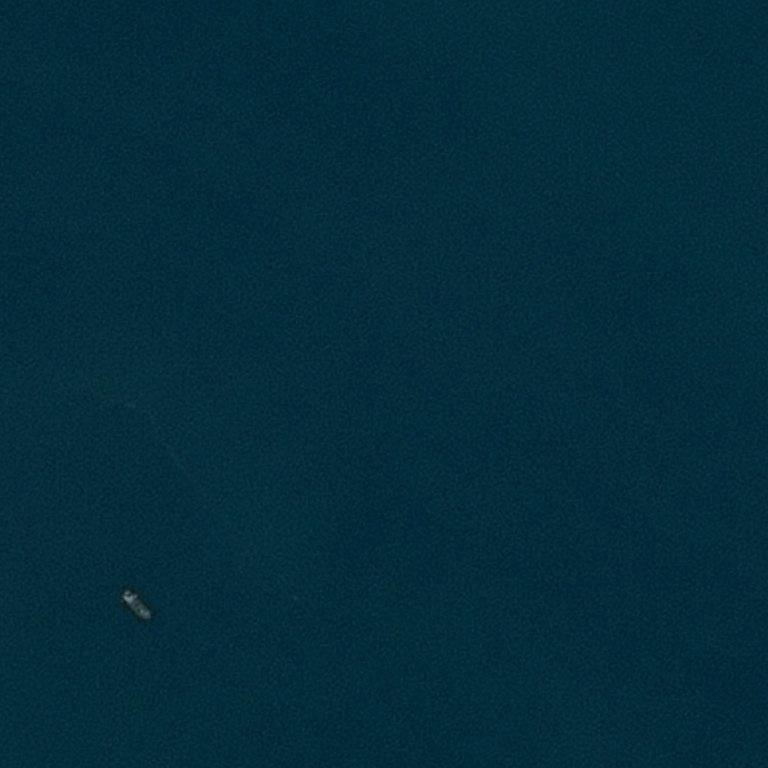ship: (44, 588, 78, 624), (147, 618, 152, 622), (127, 589, 131, 592), (123, 596, 124, 600)
